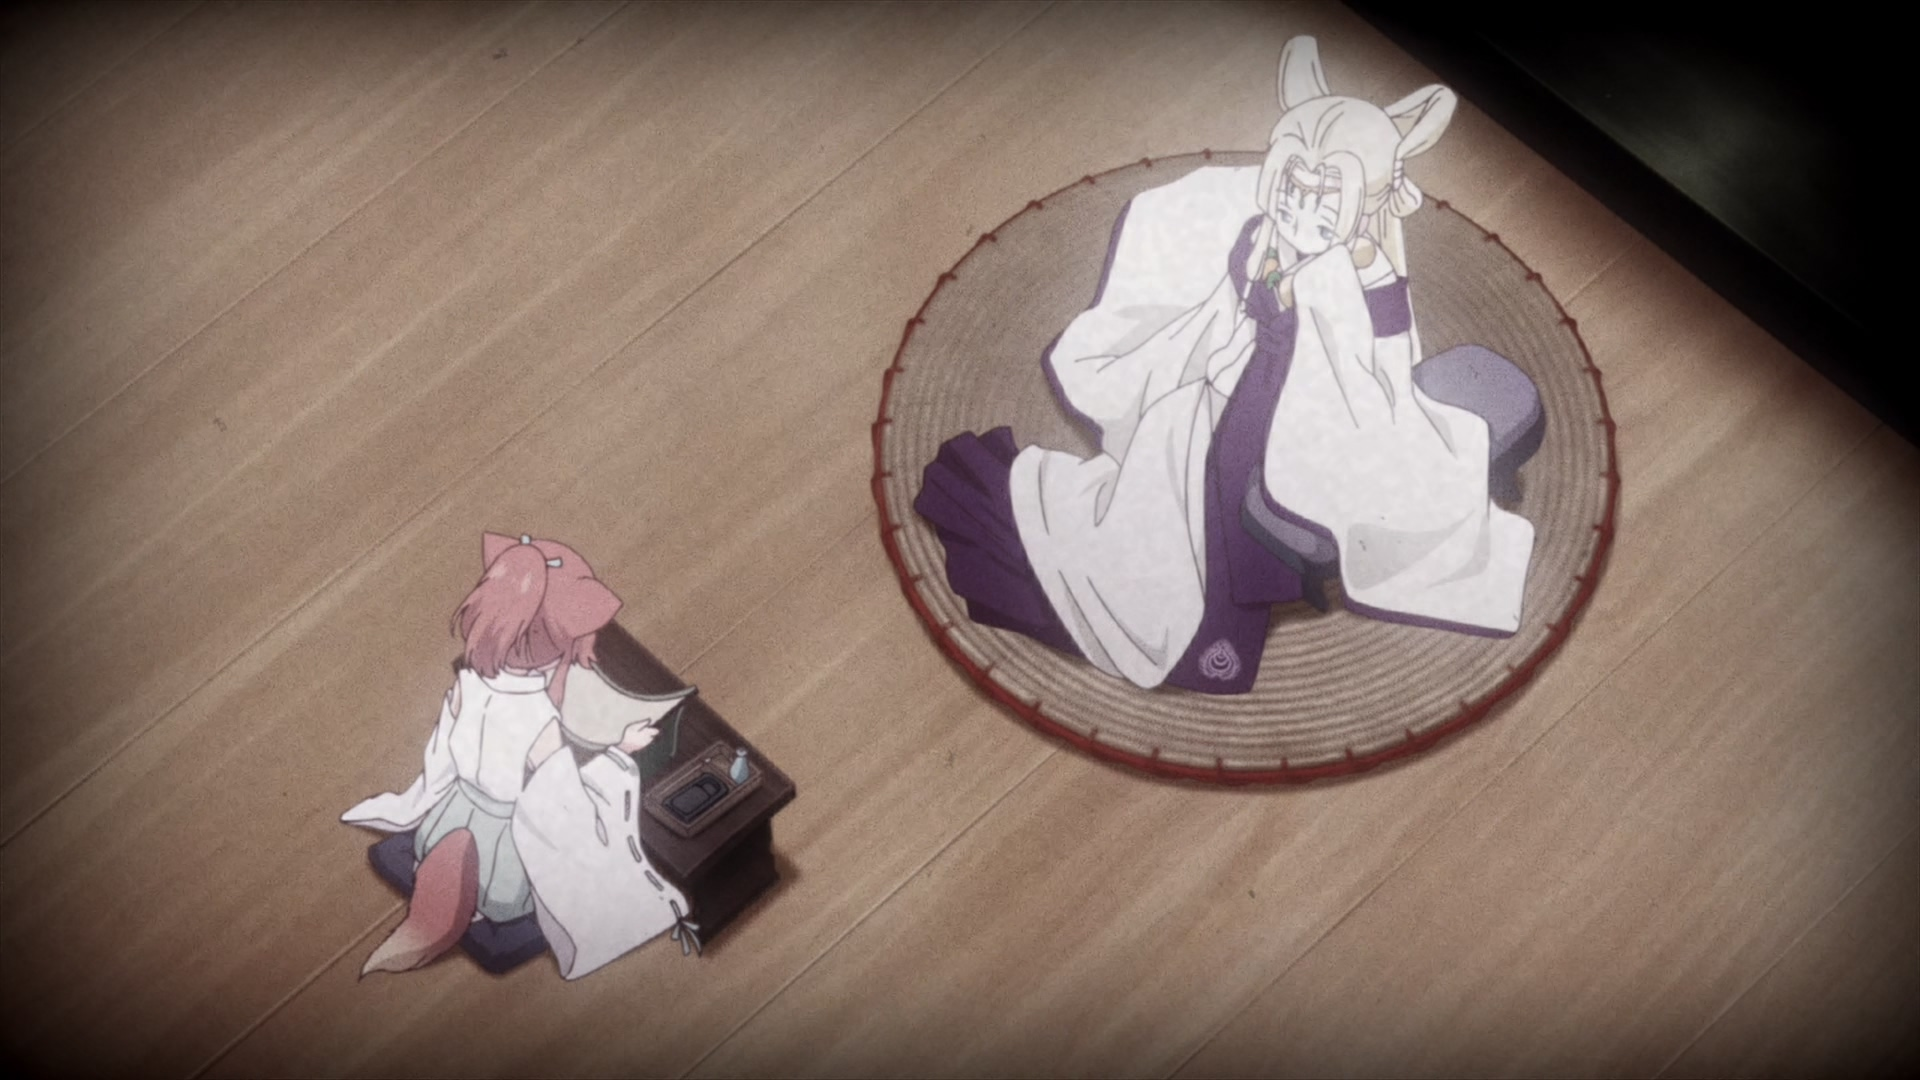其他: (913, 34, 1538, 694)
椿: (342, 534, 698, 980)
